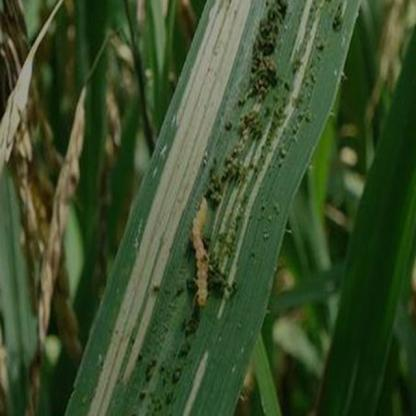leaf-folder: (180, 188, 224, 324)
